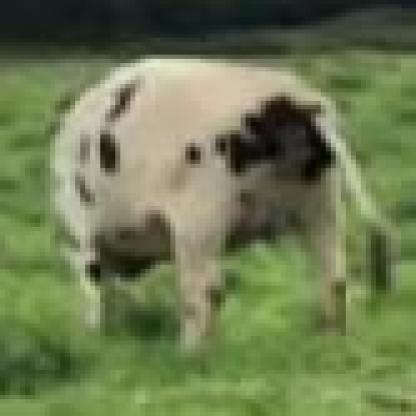cow: (52, 57, 393, 351)
